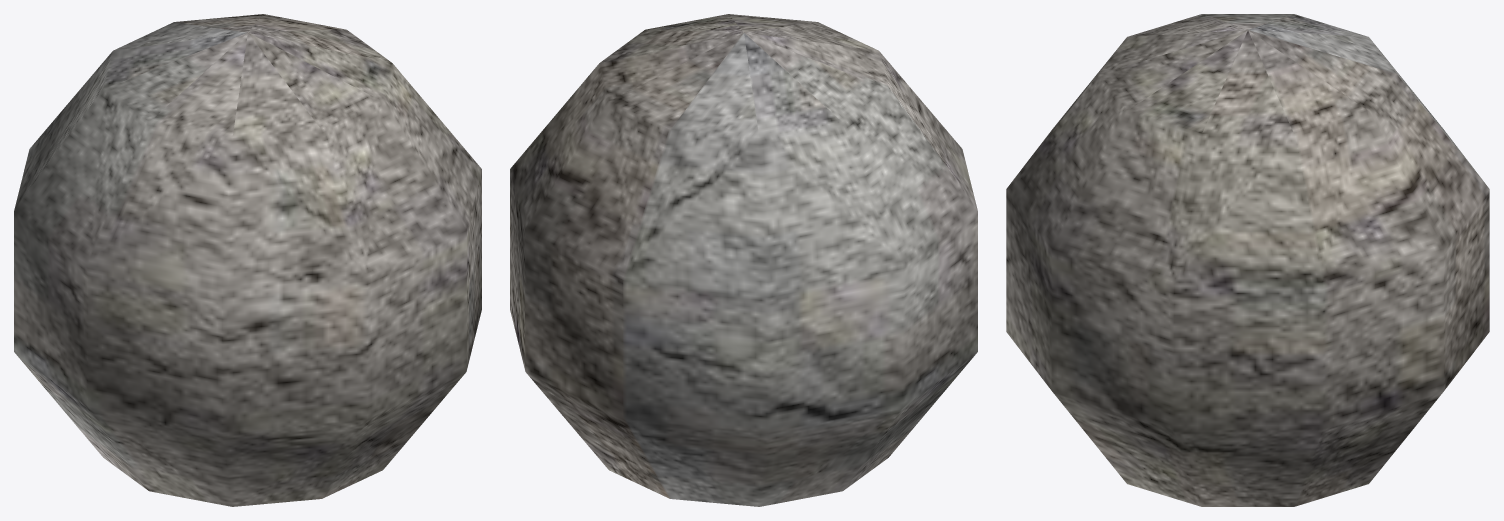
The model's file is GunEnemyBullet.fbx.
3 renders of one model, left to right at view 1: azimuth 30°, elevation 25°; view 2: azimuth 150°, elevation 25°; view 3: azimuth 270°, elevation 25°, orthographic.
Visible parts, largest first — view 1: Sphere001; view 2: Sphere001; view 3: Sphere001.
Boxes of the visible parts, x1,y1,x2,y2 form: Sphere001: (14,14,481,506); Sphere001: (510,14,977,506); Sphere001: (1006,14,1489,506).
Size of the model in its own units: 27.18 by 28.58 by 30.05.
1 material, 1 textured.
